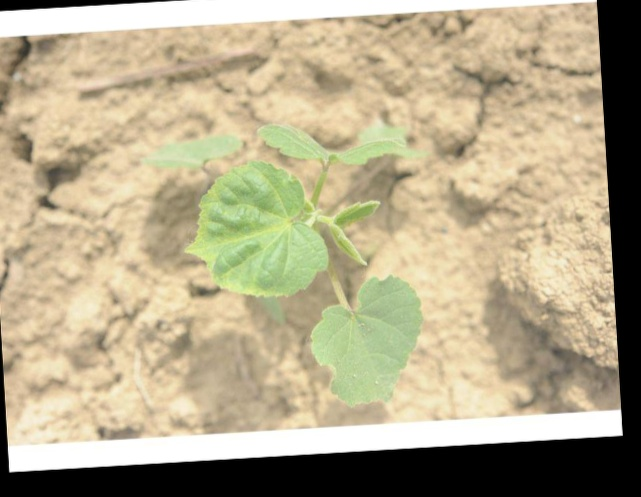velvet: (149, 122, 429, 411)
